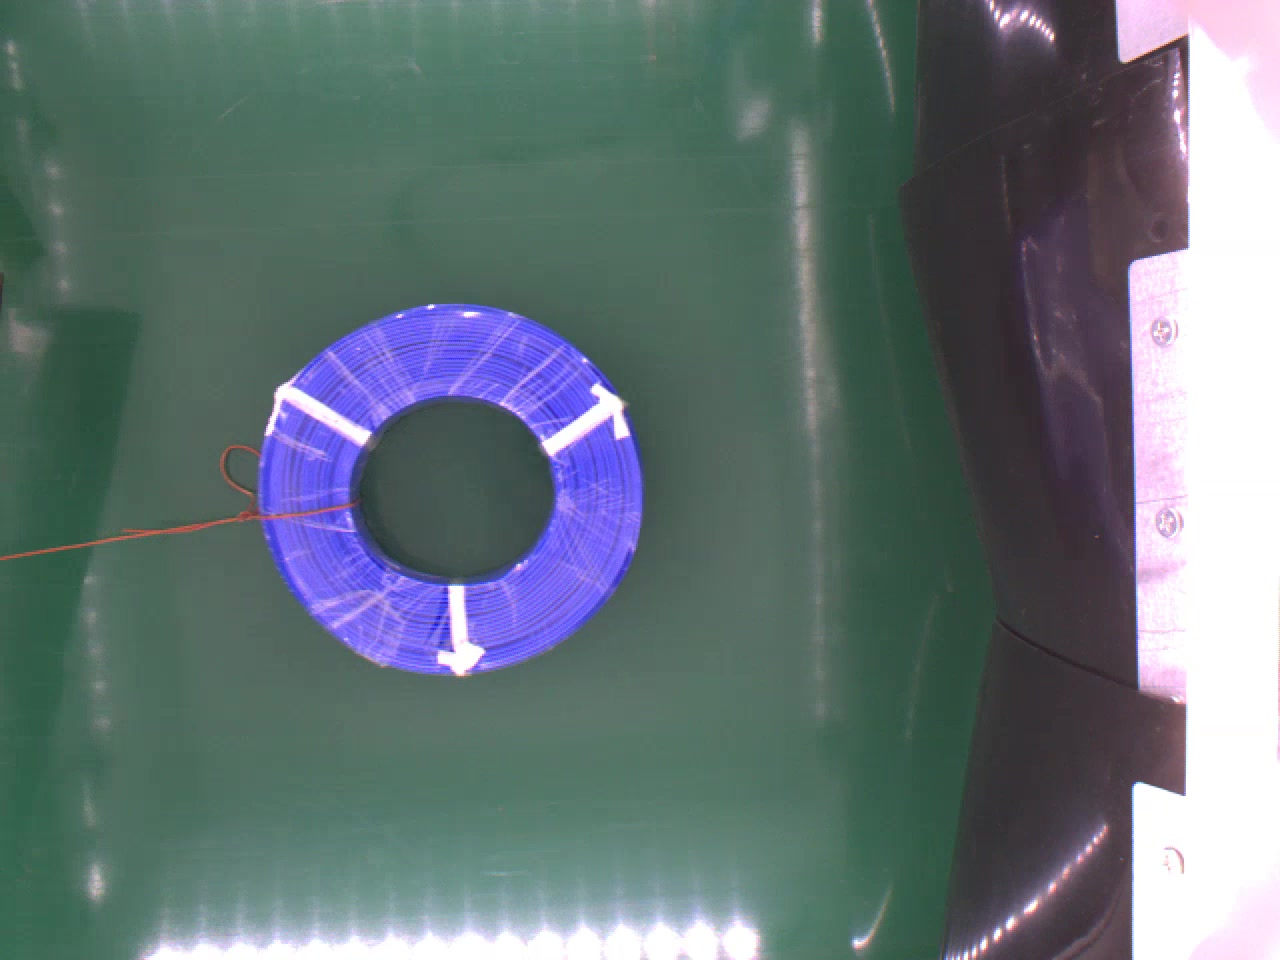blue: (251, 293, 646, 674)
